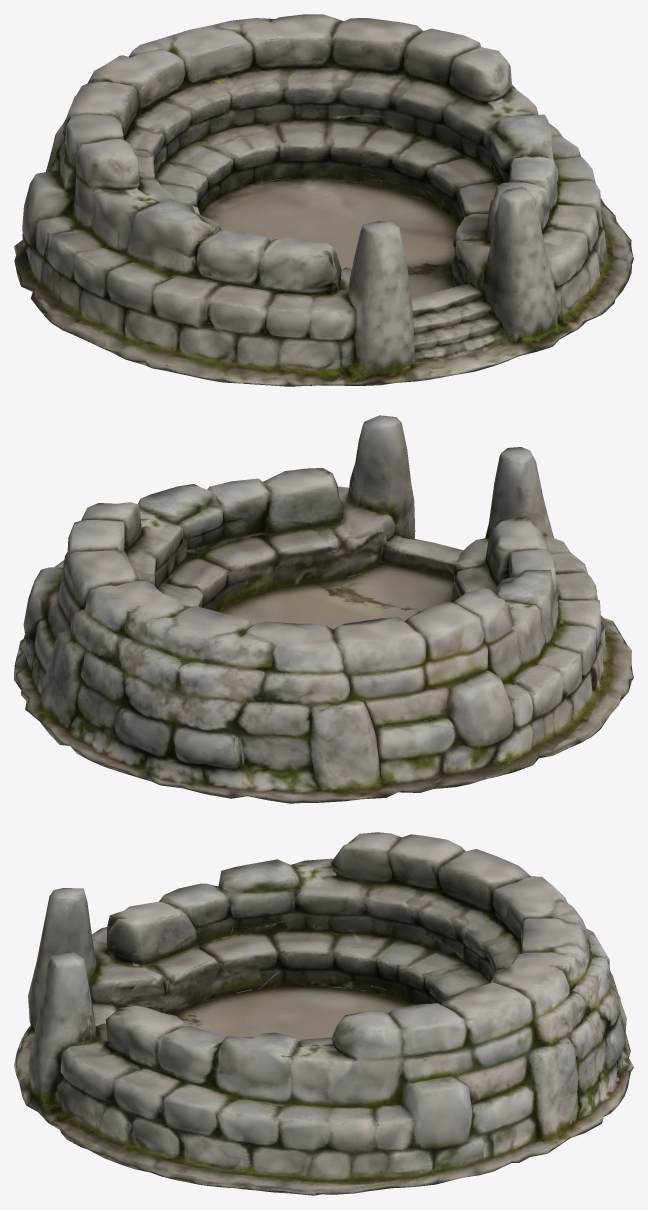
File: Ancient_Stone_Amphith.glb
3 views of the same model, one above another, from view 1: azimuth 30°, elevation 25°; view 2: azimuth 150°, elevation 25°; view 3: azimuth 270°, elevation 25° (orthographic).
Parts seen in each view (by area): view 1: Ancient_Stone_Amphith; view 2: Ancient_Stone_Amphith; view 3: Ancient_Stone_Amphith.
Boxes of the visible parts, bbox=[...] form: Ancient_Stone_Amphith: bbox=[14, 14, 633, 386]; Ancient_Stone_Amphith: bbox=[14, 415, 633, 803]; Ancient_Stone_Amphith: bbox=[14, 832, 633, 1195].
Size of the model in its own units: 1.9 by 0.4765 by 1.91.
Materials: 1 (1 with a texture image).
